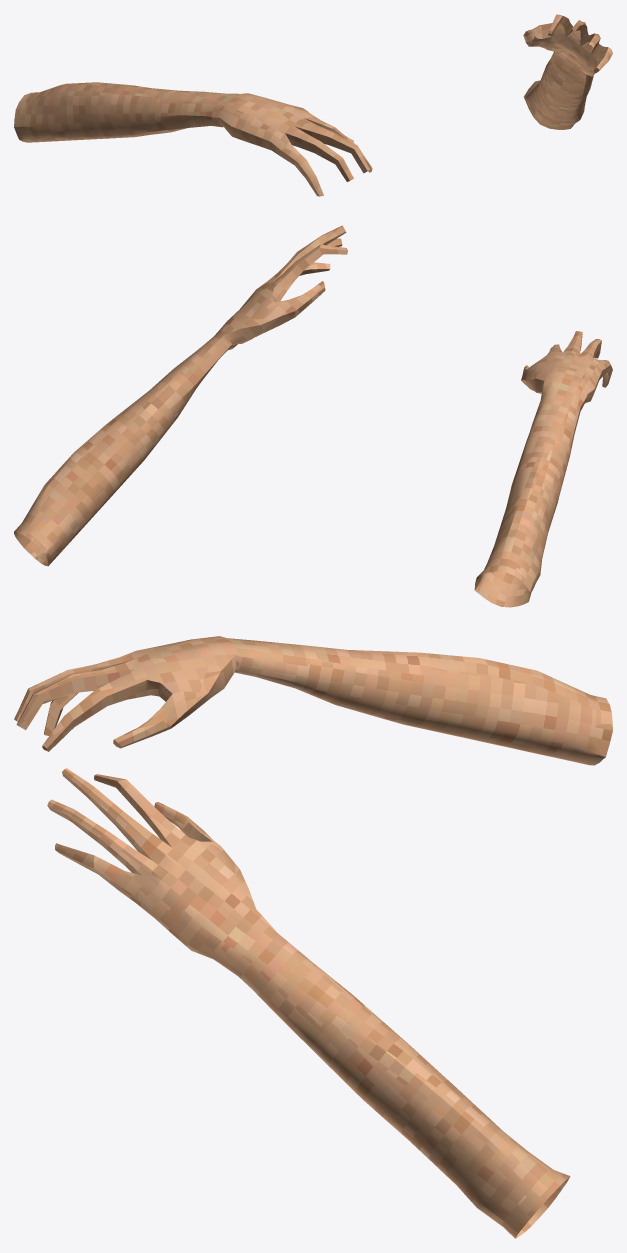
The model's file is Brazos_player.fbx.
3 views of the same model, one above another, from view 1: azimuth 30°, elevation 25°; view 2: azimuth 150°, elevation 25°; view 3: azimuth 270°, elevation 25° (orthographic). The views are drawn at different scales.
Parts seen in each view (by area): view 1: Hand R, Hand L; view 2: Hand L, Hand R; view 3: Hand L, Hand R.
Part boxes in pixels (bbox=[...]): Hand R: bbox=[14, 82, 372, 196]; Hand L: bbox=[523, 14, 612, 129]; Hand L: bbox=[14, 225, 347, 566]; Hand R: bbox=[474, 331, 612, 607]; Hand L: bbox=[47, 768, 570, 1238]; Hand R: bbox=[14, 636, 612, 765].
Bounding box in the file's own units: 57.9 × 26.53 × 39.35.
1 material, 1 textured.
